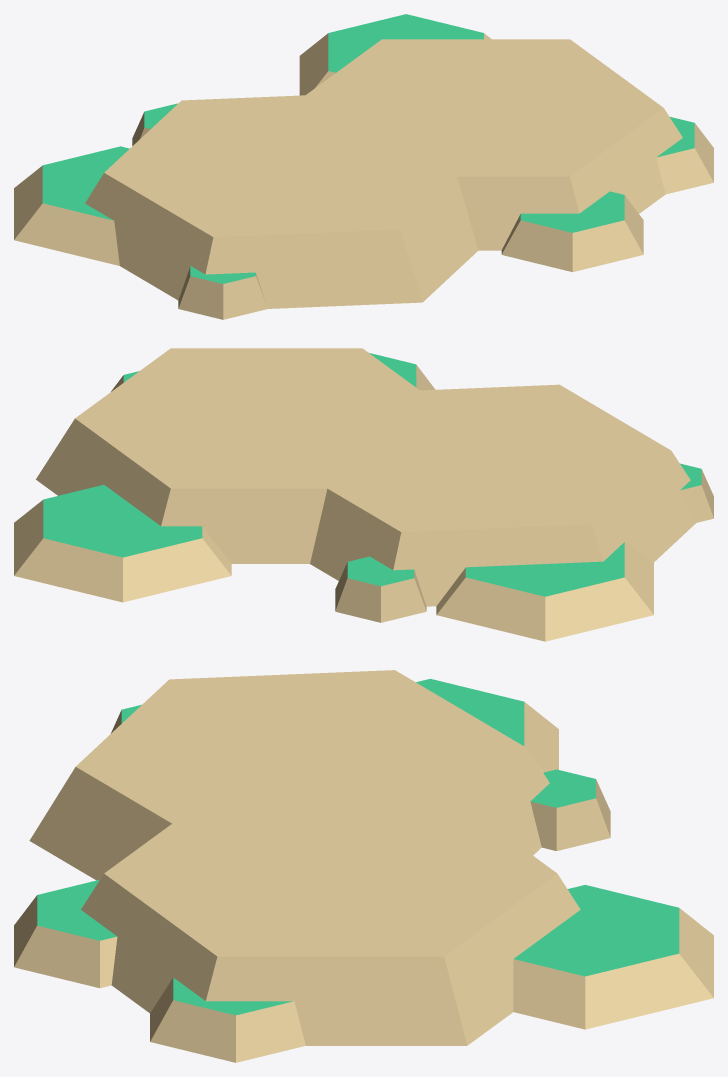
Rendered from rockFlatGrass.fbx.
3 views of the same model, one above another, from view 1: azimuth 30°, elevation 25°; view 2: azimuth 150°, elevation 25°; view 3: azimuth 270°, elevation 25° (orthographic). The views are drawn at different scales.
Parts seen in each view (by area): view 1: rockFlatGrass; view 2: rockFlatGrass; view 3: rockFlatGrass.
Part boxes in pixels (x1,y1,x2,y2): rockFlatGrass: (14,14,713,319); rockFlatGrass: (14,348,713,641); rockFlatGrass: (14,670,713,1062).
Bounding box in the file's own units: 17.86 × 1.65 × 14.48.
